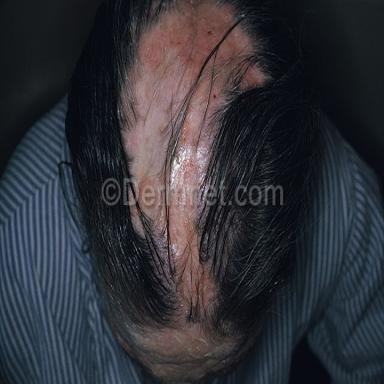Lupus-Erythematosus-Chronicus-Discoides: (121, 2, 267, 318)
